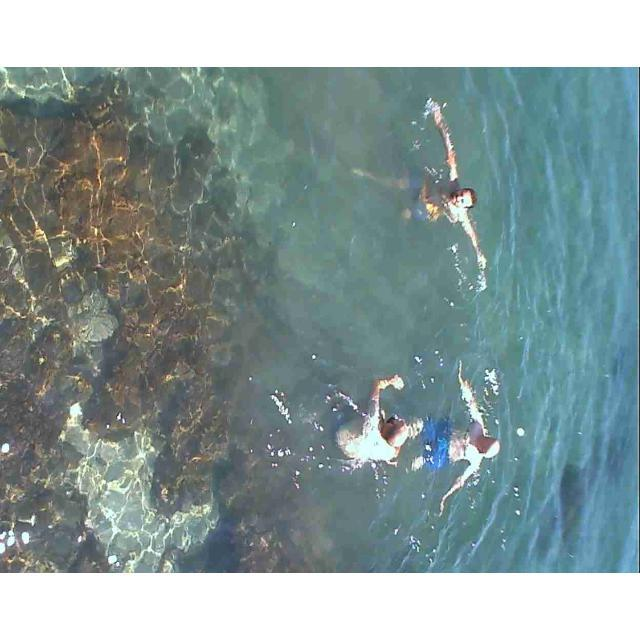human: (402, 87, 484, 274), (433, 369, 498, 517), (345, 359, 407, 484)
